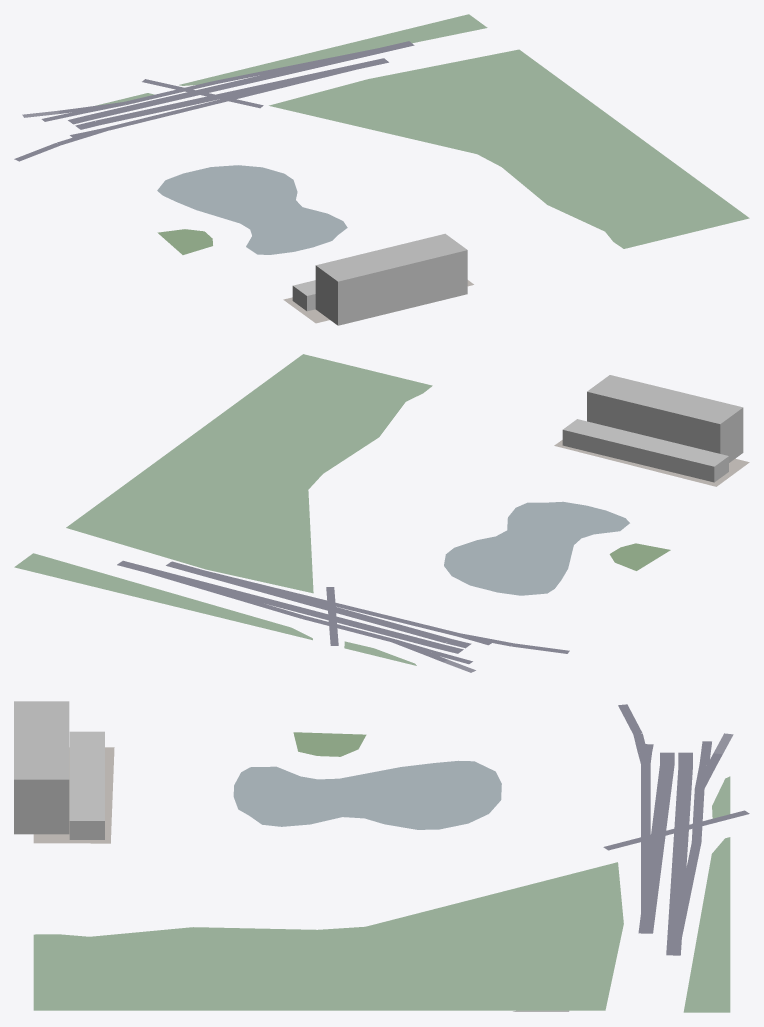
File: 129_81_mid.glb
3 views of the same model, one above another, from view 1: azimuth 30°, elevation 25°; view 2: azimuth 150°, elevation 25°; view 3: azimuth 270°, elevation 25° (orthographic). The views are drawn at different scales.
Bounding box in the file's own units: 510 × 45.89 × 528.
